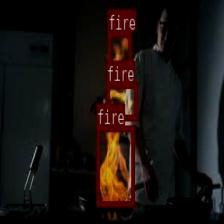fire: (96, 124, 134, 206), (106, 82, 137, 120), (107, 30, 131, 68)
